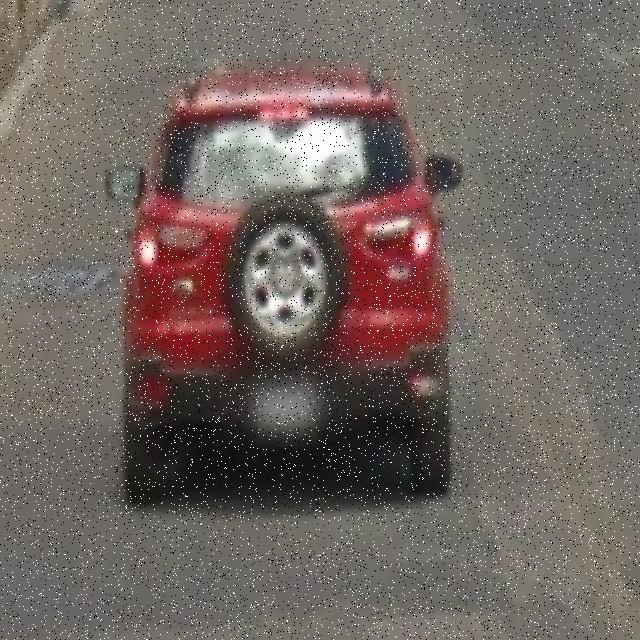cars: (102, 63, 461, 514)
